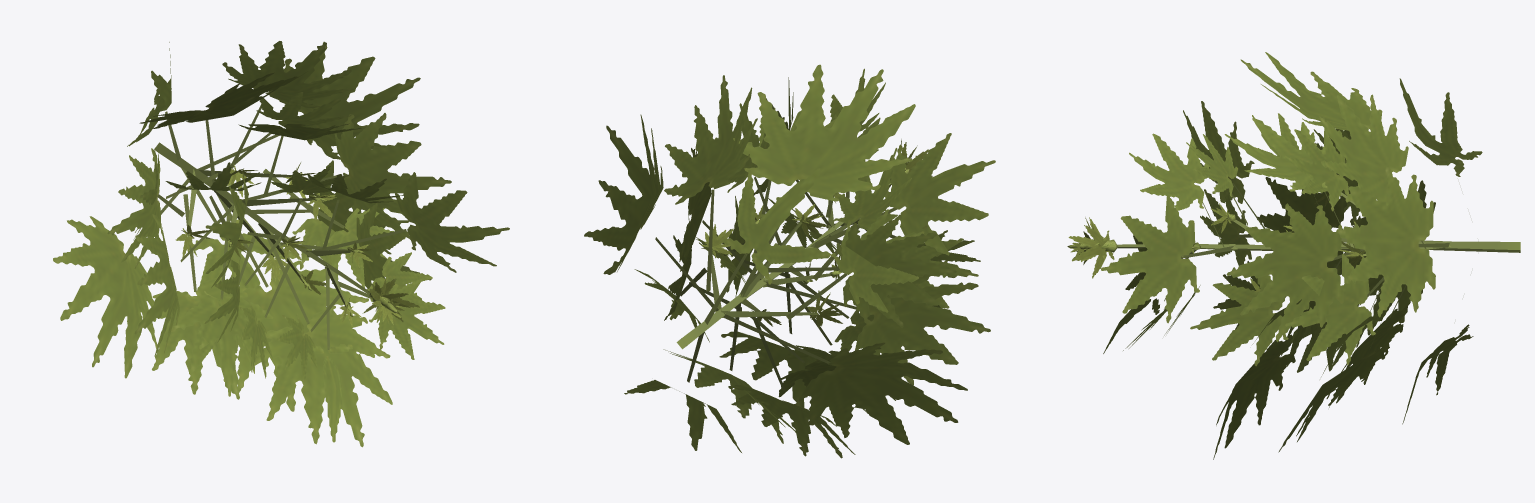
Rendered from p_haze_preflower_c1_cards.obj.
3 renders of one model, left to right at view 1: azimuth 30°, elevation 25°; view 2: azimuth 150°, elevation 25°; view 3: azimuth 270°, elevation 25°, orthographic. The views are drawn at different scales.
Bounding box in the file's own units: 1.63 × 1.5 × 1.48.
1 material, 1 textured.
